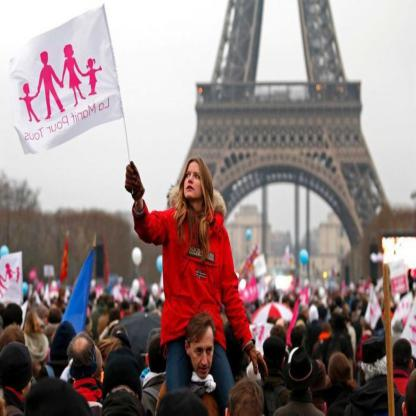face: (190, 335, 215, 377), (185, 164, 203, 200)
